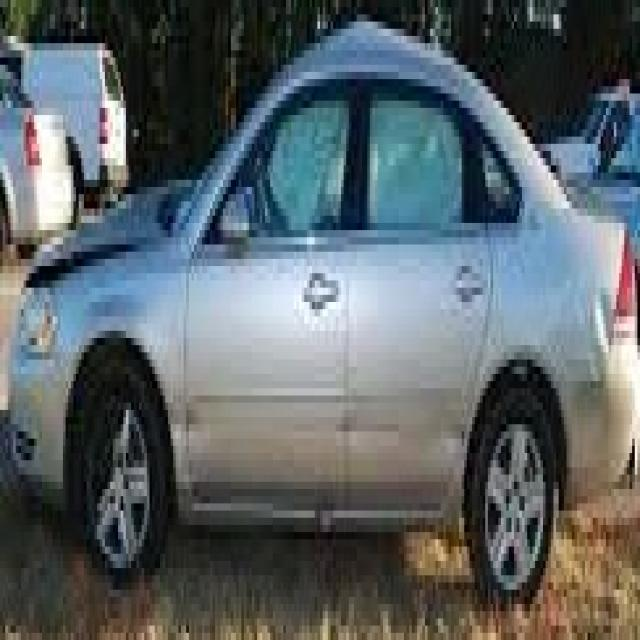minor: (22, 222, 178, 345), (590, 268, 619, 392)
